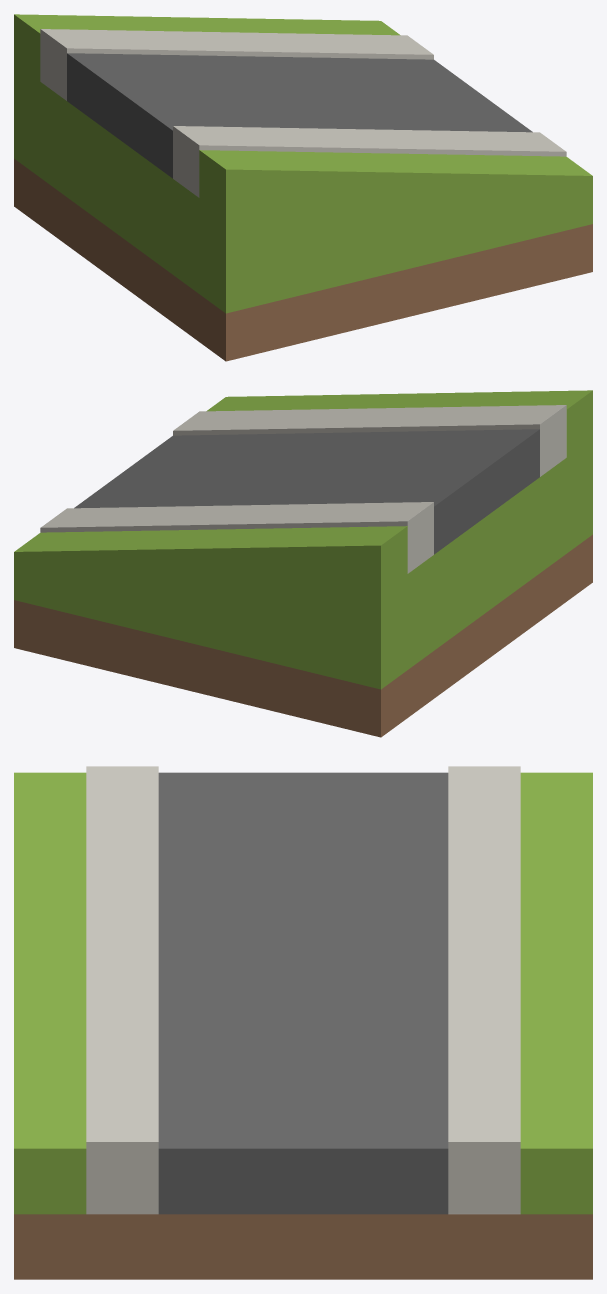
File: road-hill.obj
The picture shows the model from 3 angles, top to bottom: view 1: azimuth 30°, elevation 25°; view 2: azimuth 150°, elevation 25°; view 3: azimuth 270°, elevation 25°; orthographic projection. The views are drawn at different scales.
Visible parts, largest first — view 1: road-hill_Cube.011; view 2: road-hill_Cube.011; view 3: road-hill_Cube.011.
Part boxes in pixels (left/top/right/bottom): road-hill_Cube.011: left=14, top=14, right=592, bottom=361; road-hill_Cube.011: left=14, top=390, right=592, bottom=737; road-hill_Cube.011: left=14, top=766, right=592, bottom=1279.
Size of the model in its own units: 8 by 4.1 by 8.
1 material, 1 textured.
